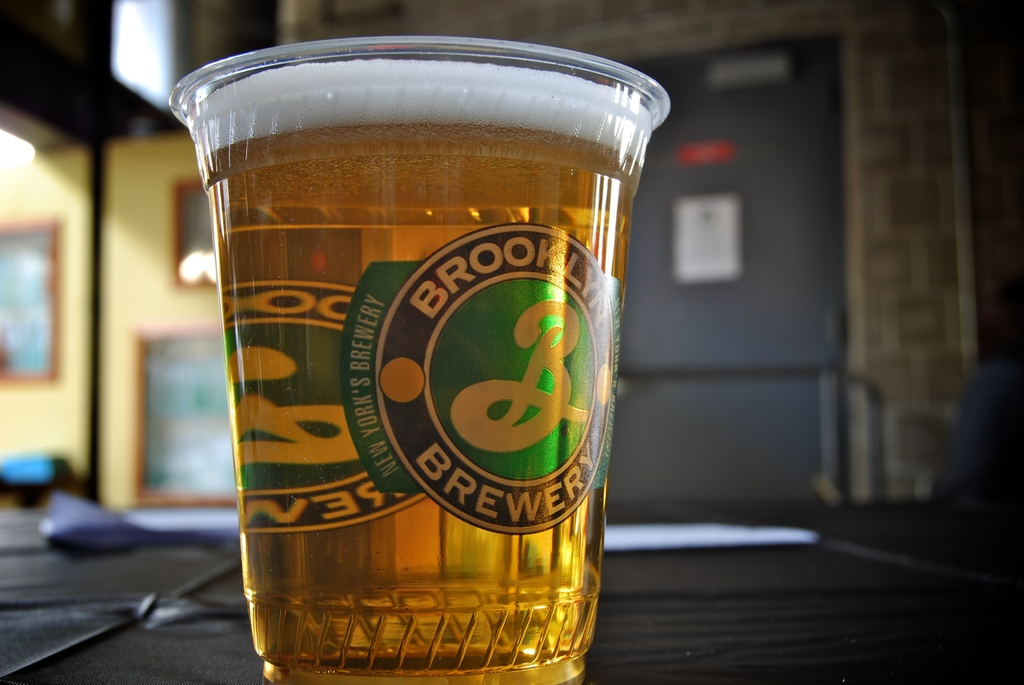Beer: (179, 55, 654, 684)
